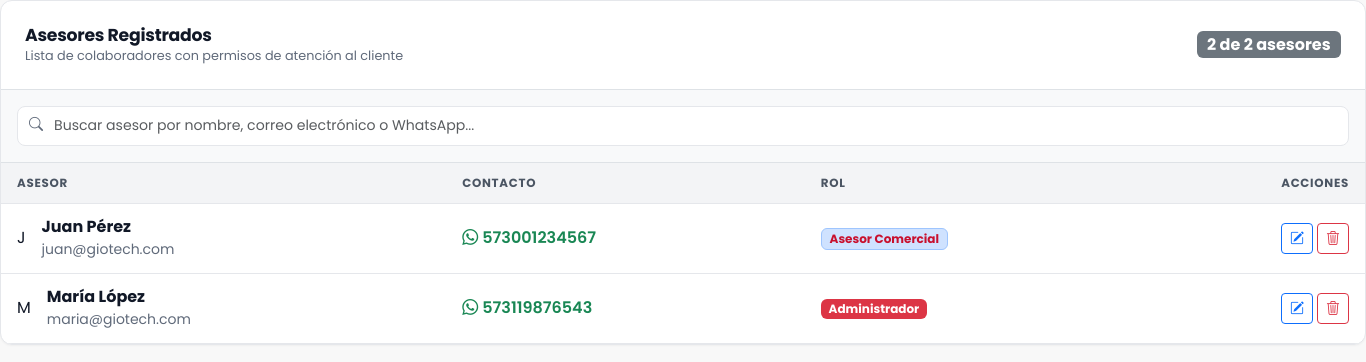
Test: AdminAsesoresList Component › filters advisors in real-time by search query
In the field with placeholder "Buscar asesor por nombre, correo electrónico o WhatsApp...": (683, 126) [17,106,1349,146], type "María"
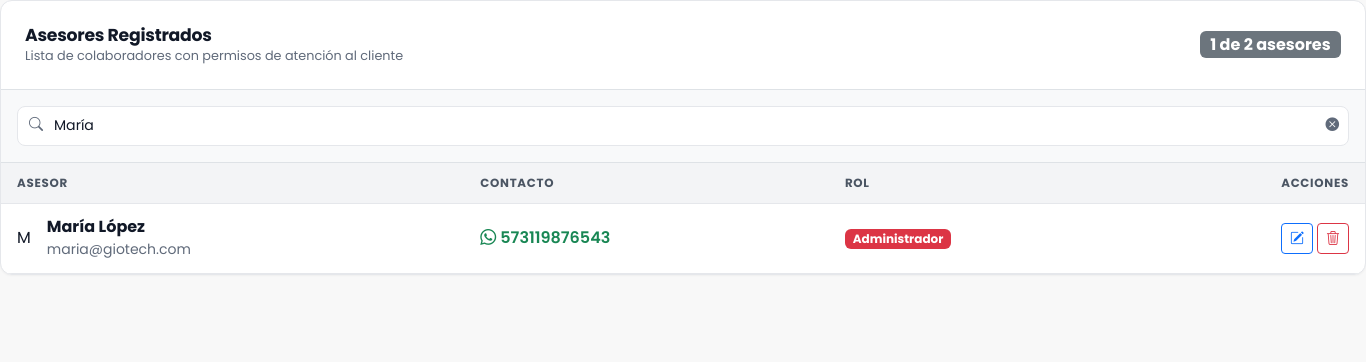
Check: the text "María López" is shown, box [47,215,145,238]
Check: the text "Juan Pérez" is gone
